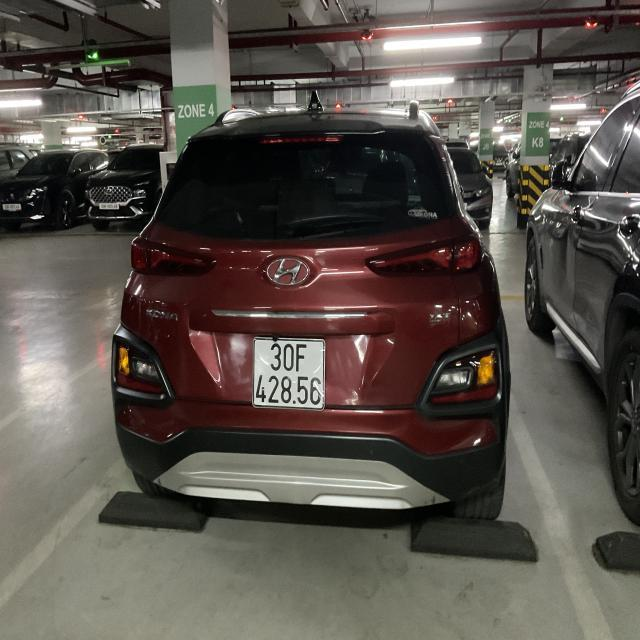license: (251, 335, 325, 410)
